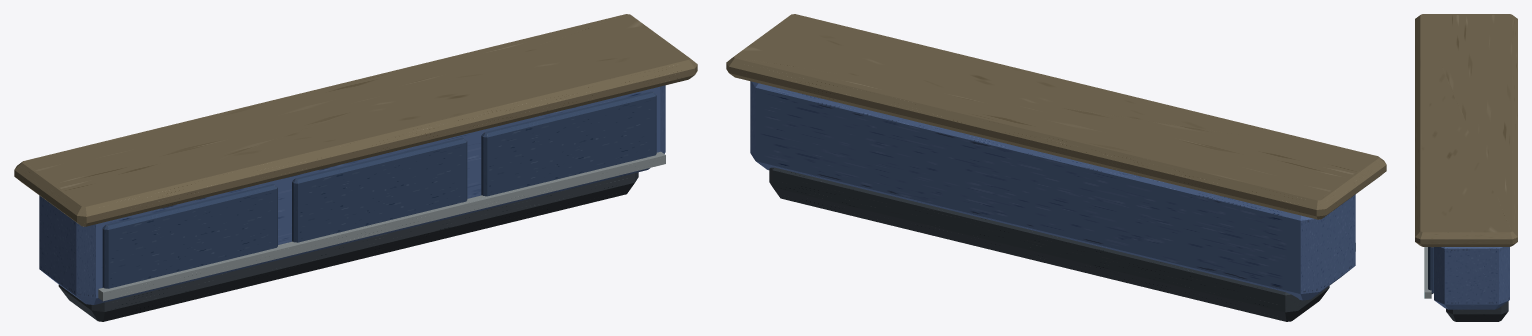
The model's file is ParcelCounter.fbx.
3 renders of one model, left to right at view 1: azimuth 30°, elevation 25°; view 2: azimuth 150°, elevation 25°; view 3: azimuth 270°, elevation 25°, orthographic. The views are drawn at different scales.
Visible parts, largest first — view 1: ParcelCounter; view 2: ParcelCounter; view 3: ParcelCounter.
Part boxes in pixels (bbox=[...]): ParcelCounter: bbox=[14, 14, 697, 321]; ParcelCounter: bbox=[726, 14, 1386, 321]; ParcelCounter: bbox=[1415, 14, 1517, 321].
Bounding box in the file's own units: 590 × 128 × 115.
